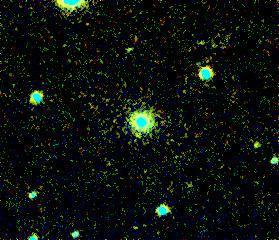star: (243, 130, 273, 160)
